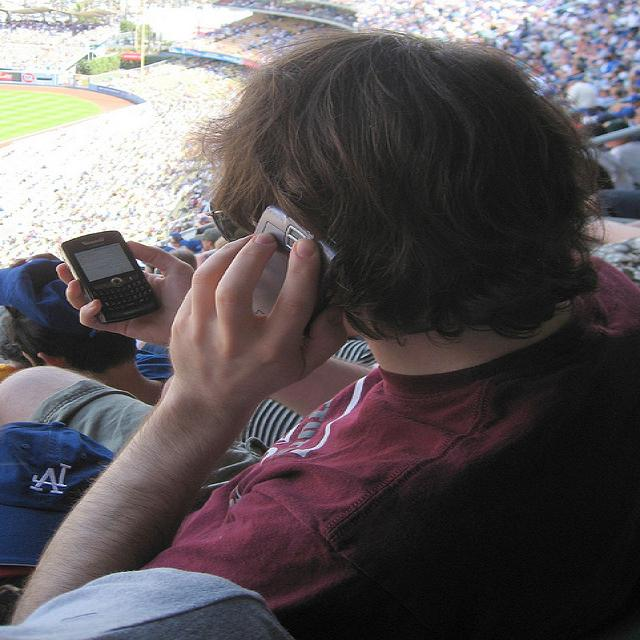phone: (216, 206, 334, 339), (62, 227, 163, 324)
